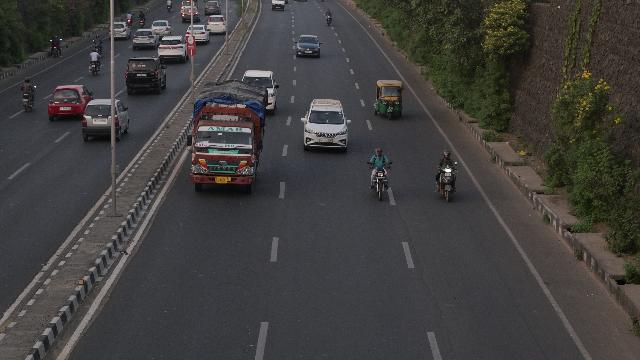With Helmet: (440, 150, 452, 160)
Without Helmet: (376, 146, 384, 156)
